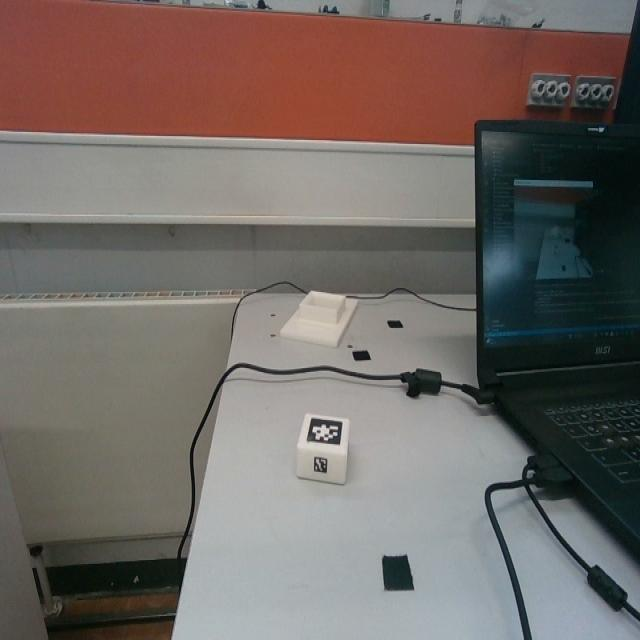Cube: (296, 410, 352, 486)
